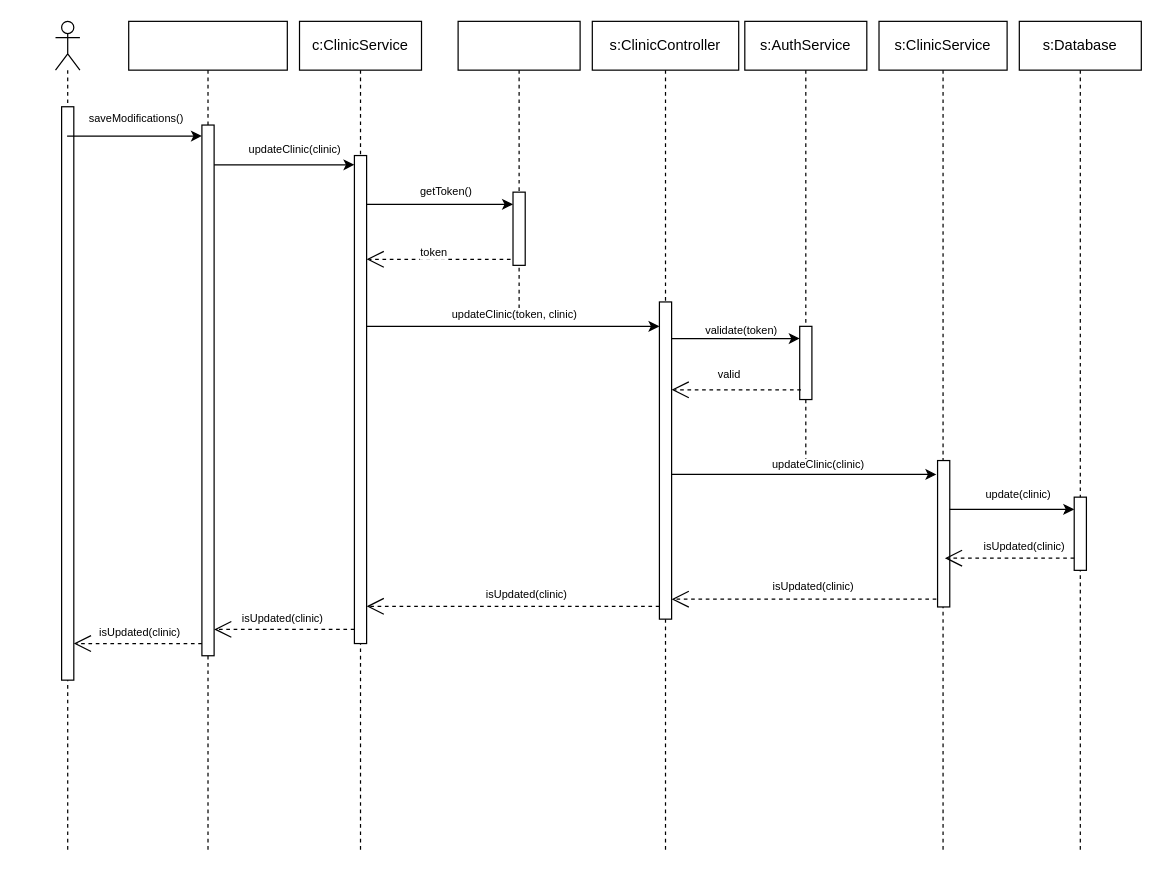
The diagram is 1163 pixels wide and 872 high, and some of its shapes have lost their labels. Each missing label, with the box of its shape:
c:AuthHttpService: (457, 20, 580, 314)
c:Clinics: (127, 20, 287, 851)
Super-Administrateur: (54, 20, 80, 851)
